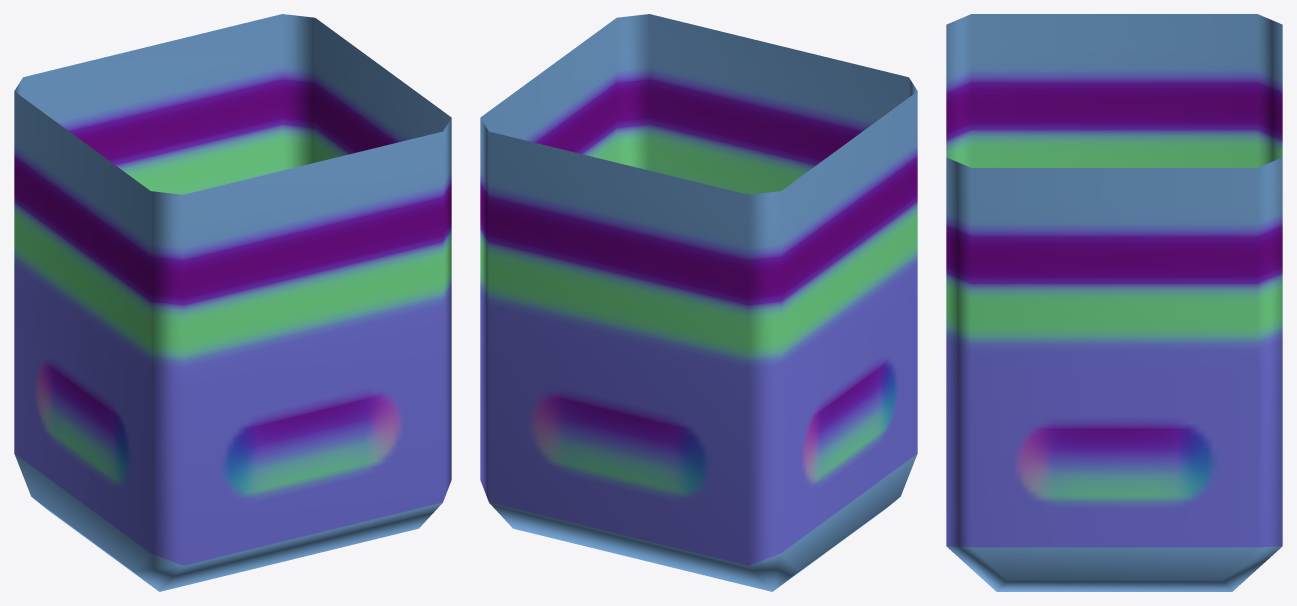
The model's file is sm_roof_detail_02.fbx.
3 renders of one model, left to right at view 1: azimuth 30°, elevation 25°; view 2: azimuth 150°, elevation 25°; view 3: azimuth 270°, elevation 25°, orthographic. The views are drawn at different scales.
Parts seen in each view (by area): view 1: sm_roof_detail_02; view 2: sm_roof_detail_02; view 3: sm_roof_detail_02.
Boxes of the visible parts, x1=… form: sm_roof_detail_02: x1=14, y1=14, x2=451, y2=591; sm_roof_detail_02: x1=480, y1=14, x2=917, y2=591; sm_roof_detail_02: x1=946, y1=14, x2=1282, y2=591.
Size of the model in its own units: 82.79 by 109 by 76.48.
1 material, 1 textured.
